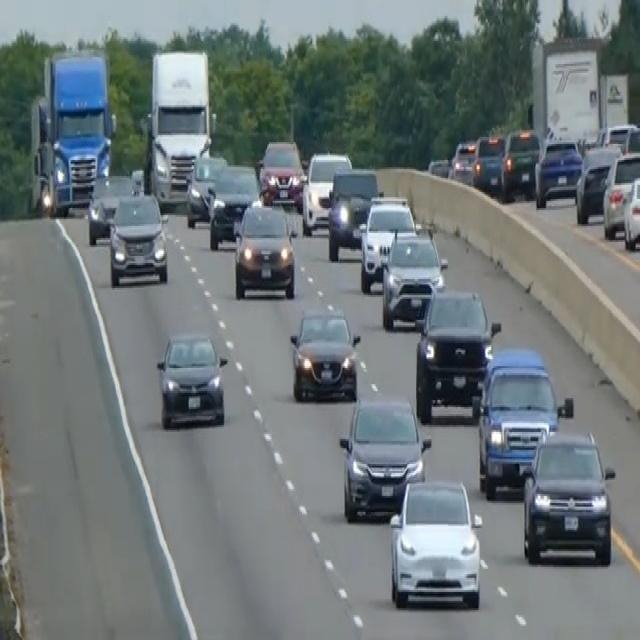car: (472, 345, 571, 498), (521, 423, 615, 567), (413, 283, 500, 423), (338, 393, 431, 521), (155, 327, 228, 429), (289, 304, 361, 402), (380, 224, 447, 329), (232, 201, 296, 299), (107, 188, 169, 286), (358, 194, 416, 293), (326, 166, 380, 260), (208, 162, 260, 249), (301, 149, 352, 235), (86, 171, 139, 245), (574, 142, 621, 224), (601, 148, 639, 238), (534, 135, 582, 206), (184, 151, 228, 228), (258, 137, 304, 208), (499, 126, 540, 198), (471, 132, 505, 192), (595, 119, 639, 153), (622, 170, 639, 250), (449, 137, 476, 185), (427, 154, 451, 178)
jeep: (386, 473, 484, 611)
lorry: (28, 48, 116, 217)
